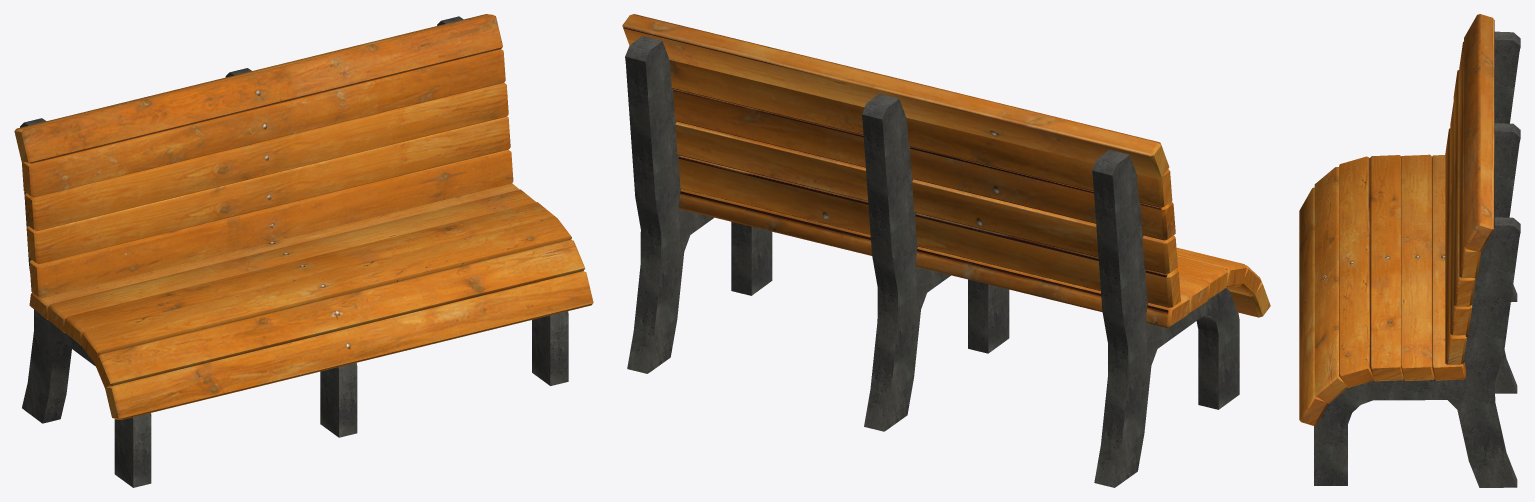
File: bench.FBX
The picture shows the model from 3 angles, left to right: view 1: azimuth 30°, elevation 25°; view 2: azimuth 150°, elevation 25°; view 3: azimuth 270°, elevation 25°; orthographic projection. The views are drawn at different scales.
Visible parts, largest first — view 1: bench; view 2: bench; view 3: bench.
Part boxes in pixels (x1,y1,x2,y2): bench: [14, 14, 593, 487]; bench: [622, 14, 1270, 487]; bench: [1299, 14, 1520, 487].
Bounding box in the file's own units: 67.13 × 40.32 × 29.75.
